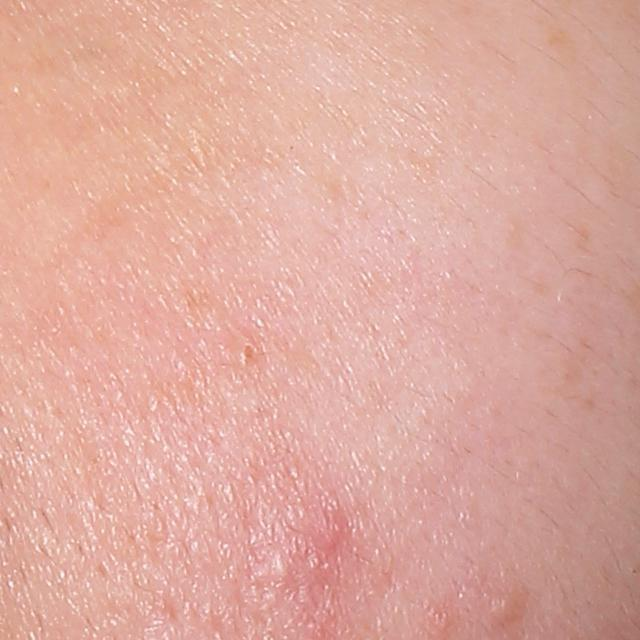comedo: (488, 584, 539, 629), (265, 549, 293, 583), (237, 343, 256, 364)
